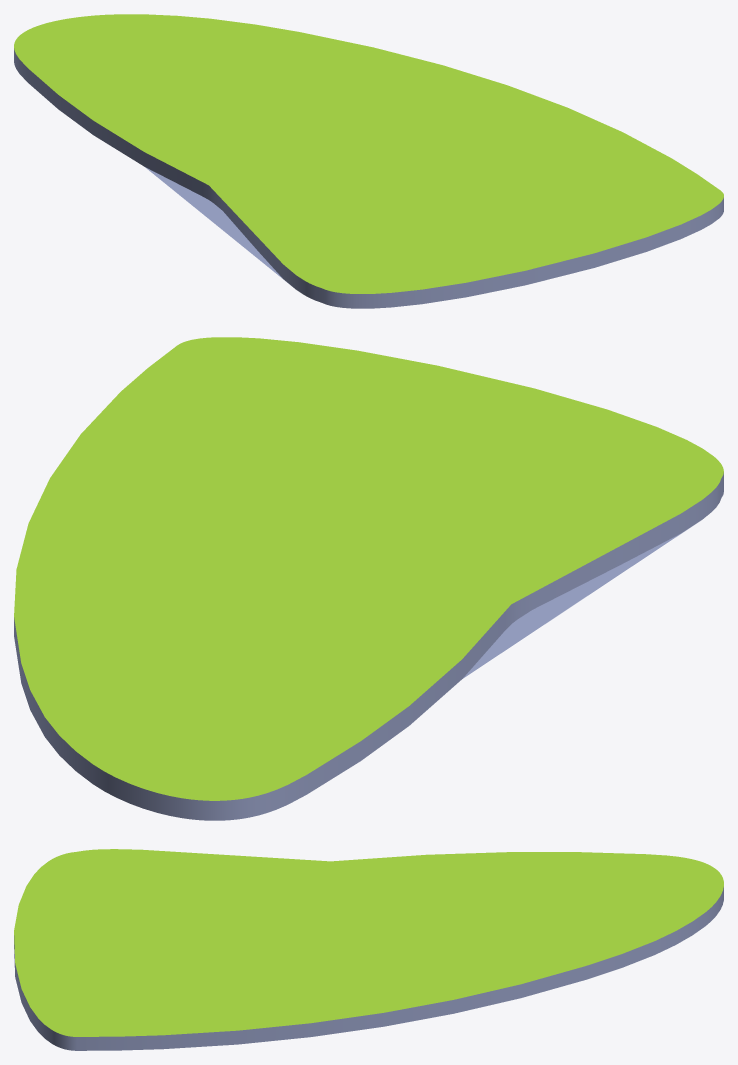
3 renders of one model, top to bottom at view 1: azimuth 30°, elevation 25°; view 2: azimuth 150°, elevation 25°; view 3: azimuth 270°, elevation 25°, orthographic. The views are drawn at different scales.
Visible parts, largest first — view 1: Extrude_1; view 2: Extrude_1; view 3: Extrude_1.
Part boxes in pixels (box(x1,y1,x2,y2)): Extrude_1: box(14, 14, 723, 308); Extrude_1: box(14, 337, 723, 820); Extrude_1: box(14, 849, 723, 1050).
Bounding box in the file's own units: 870 × 30 × 1389.
